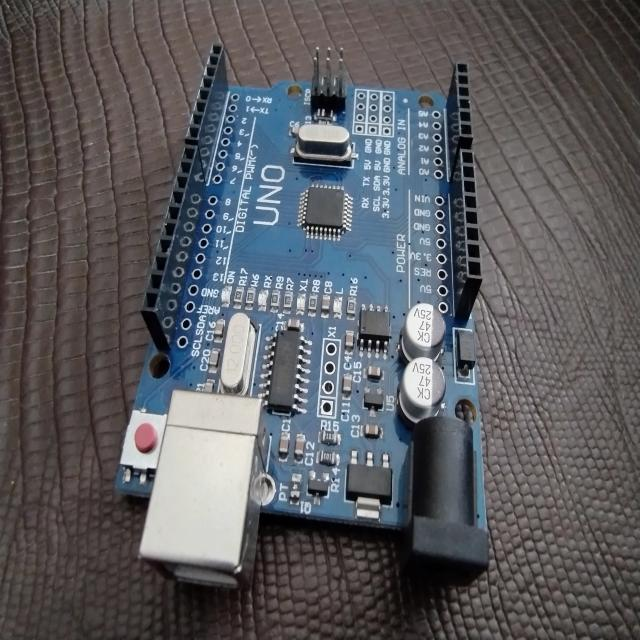arduino: (110, 35, 494, 598)
